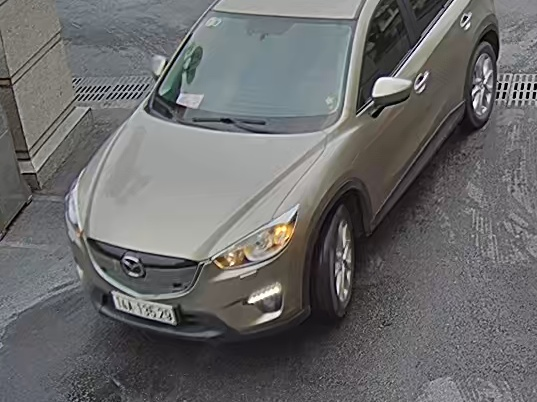vehicle plate: (106, 287, 185, 331)
